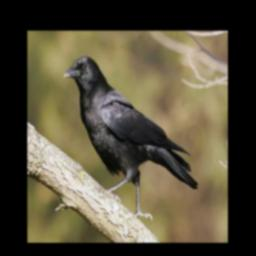Crow: (60, 54, 199, 224)
